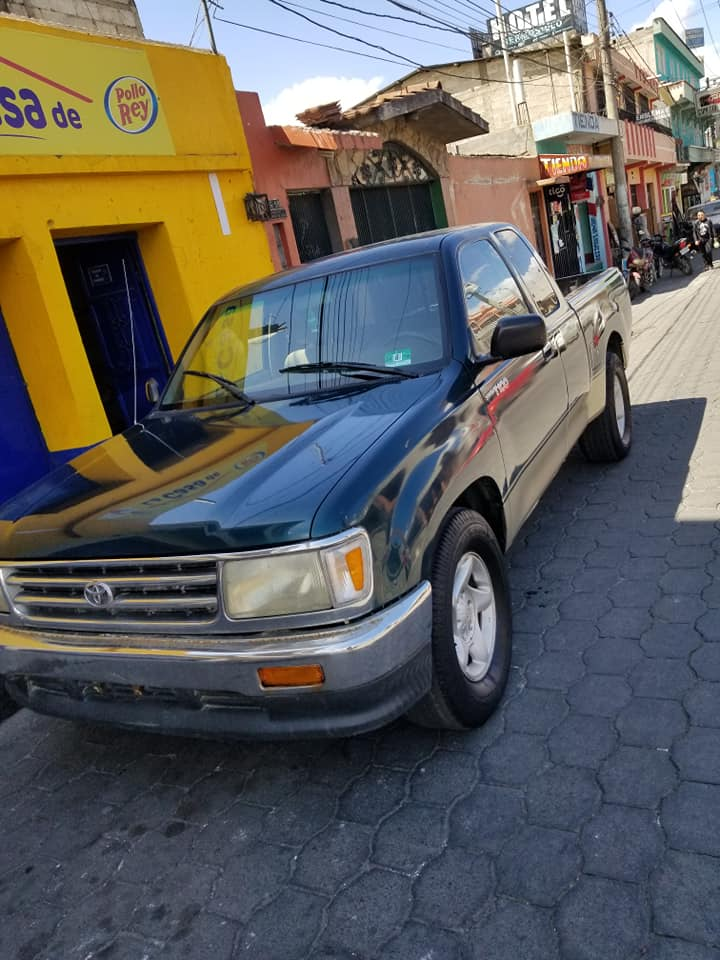pickup: (1, 220, 632, 729)
